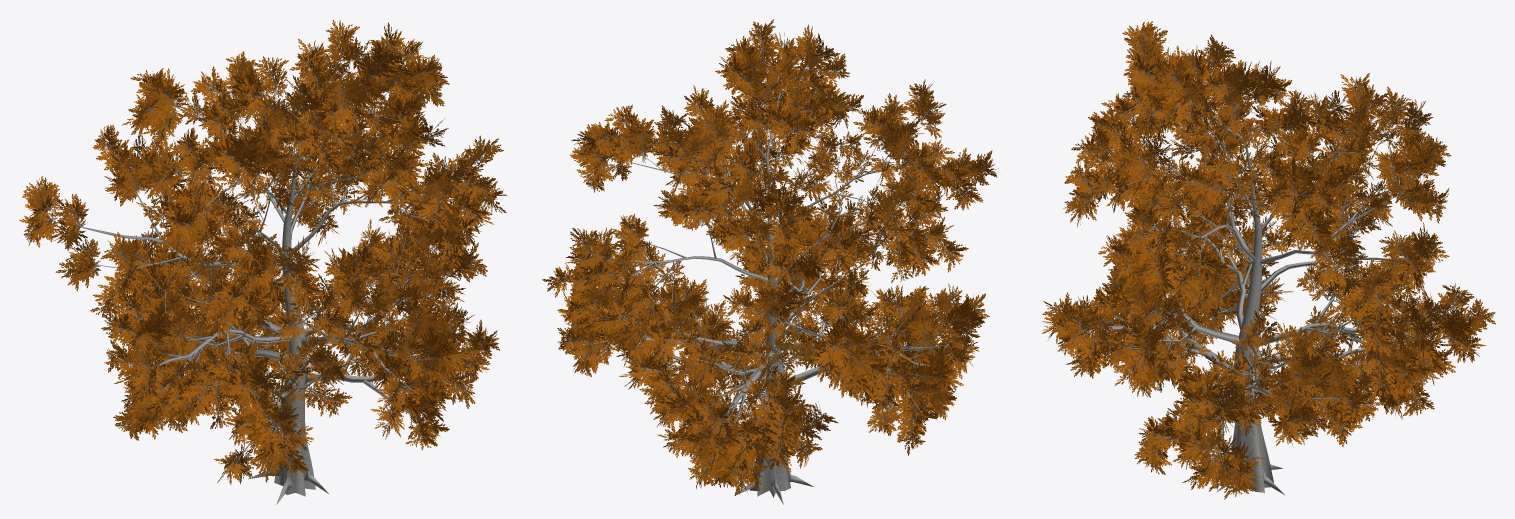
File: beech-fall.gltf
3 renders of one model, left to right at view 1: azimuth 30°, elevation 25°; view 2: azimuth 150°, elevation 25°; view 3: azimuth 270°, elevation 25°, orthographic. The views are drawn at different scales.
Parts seen in each view (by area): view 1: American beech Fall; view 2: American beech Fall; view 3: American beech Fall.
Boxes of the visible parts, left/top/right/bottom form: American beech Fall: left=19, top=20, right=507, bottom=504; American beech Fall: left=542, top=19, right=998, bottom=504; American beech Fall: left=1042, top=21, right=1495, bottom=499.
Bounding box in the file's own units: 771 × 817 × 757.
2 materials, 2 textured.
